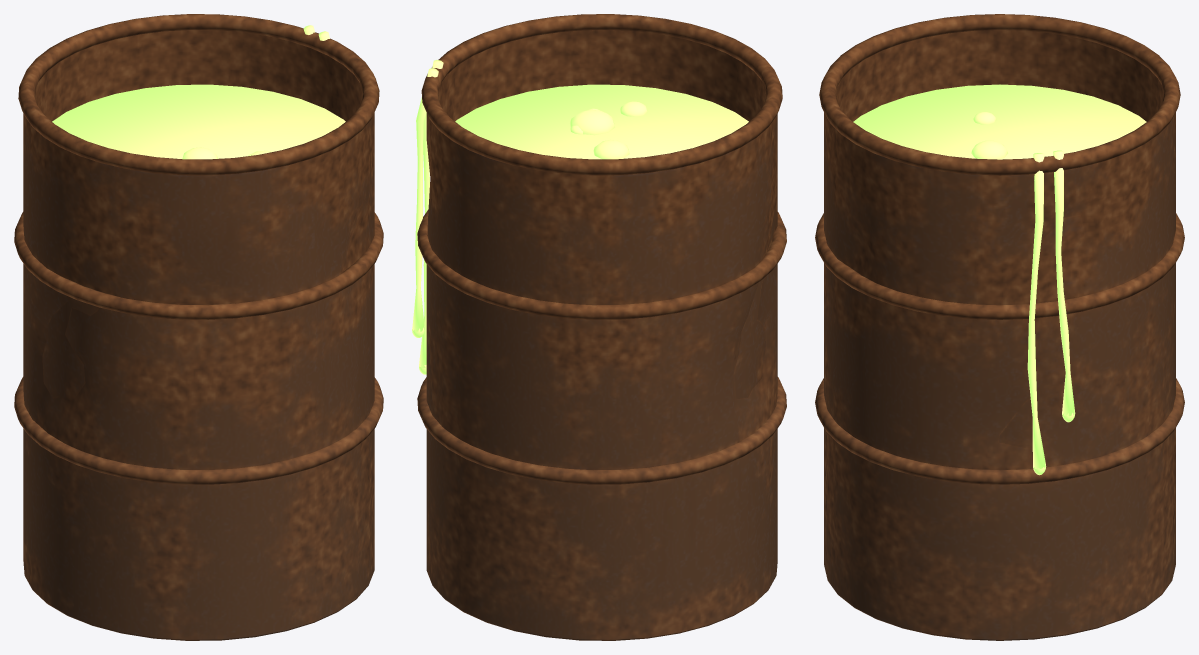
The model's file is barril_oxidado.glb.
3 views of the same model, side by side, from view 1: azimuth 30°, elevation 25°; view 2: azimuth 150°, elevation 25°; view 3: azimuth 270°, elevation 25° (orthographic).
Visible parts, largest first — view 1: barril_oxidado; view 2: barril_oxidado; view 3: barril_oxidado.
Part boxes in pixels (box(x1,y1,x2,y2)): barril_oxidado: box(14, 14, 383, 640); barril_oxidado: box(412, 14, 786, 640); barril_oxidado: box(815, 14, 1184, 640).
Bounding box in the file's own units: 0.615 × 0.8823 × 0.61.
Materials: 2 (1 with a texture image).
